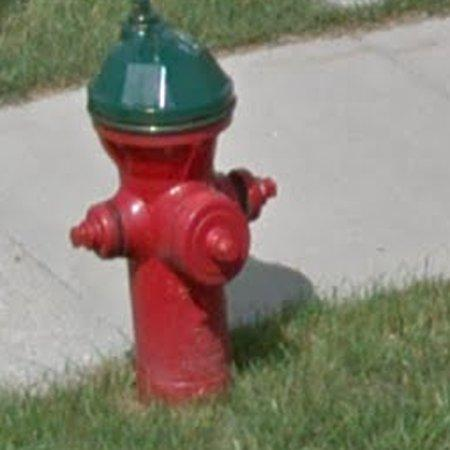a fire hydrant: (70, 0, 277, 404)
